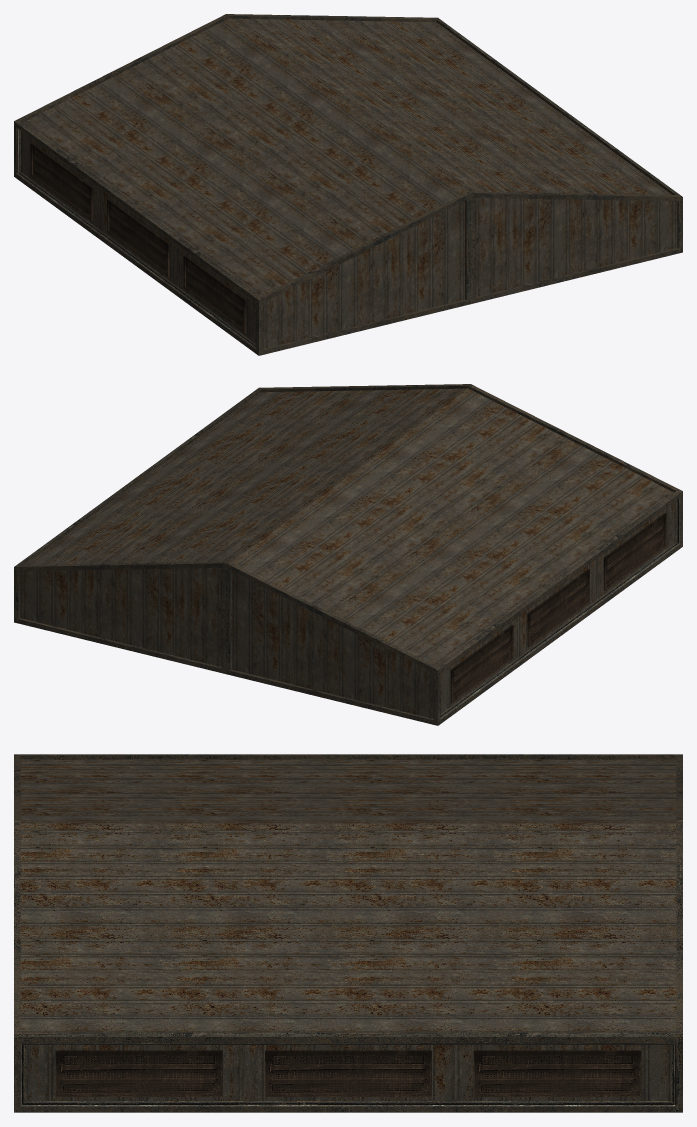
File: roof_mh_4_b_2.glb
The picture shows the model from 3 angles, top to bottom: view 1: azimuth 30°, elevation 25°; view 2: azimuth 150°, elevation 25°; view 3: azimuth 270°, elevation 25°; orthographic projection. The views are drawn at different scales.
Visible parts, largest first — view 1: roof_mh_4_b_2; view 2: roof_mh_4_b_2; view 3: roof_mh_4_b_2.
Boxes of the visible parts, <box> form: roof_mh_4_b_2: <box>14,14,682,355</box>; roof_mh_4_b_2: <box>14,384,682,725</box>; roof_mh_4_b_2: <box>14,754,682,1112</box>.
Bounding box in the file's own units: 8 × 2 × 8.
6 materials, 6 textured.
